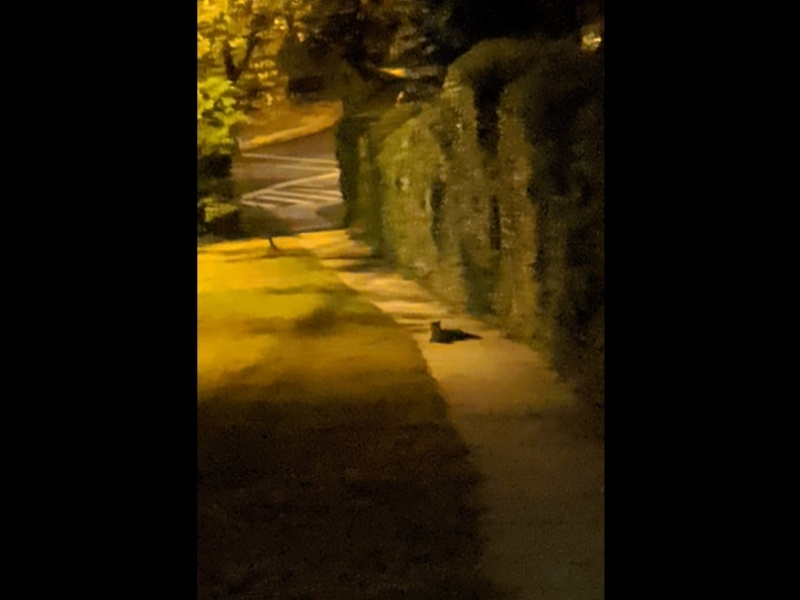cat: (425, 317, 453, 345)
